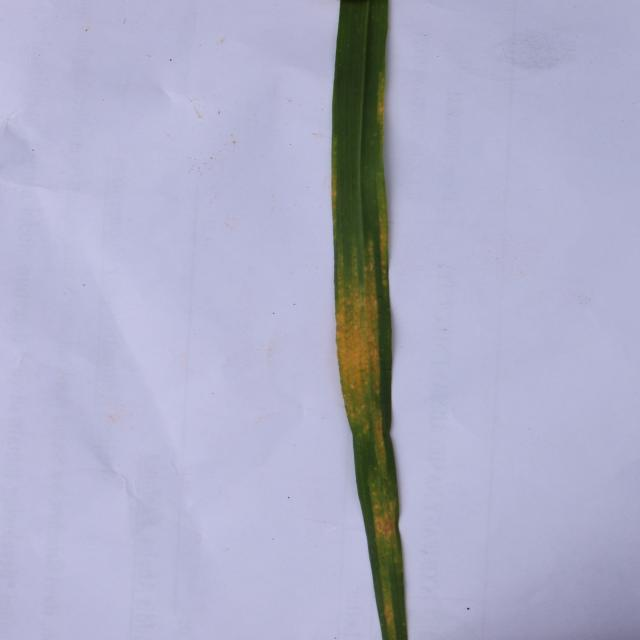Stripe Rust: (334, 283, 384, 401)
